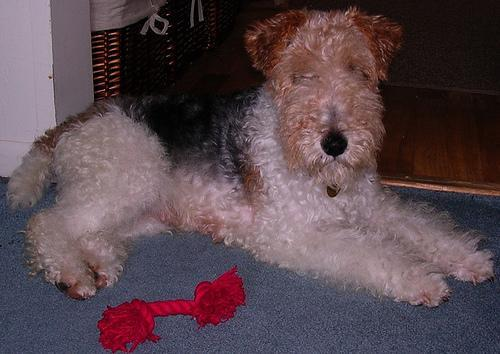wire-haired_fox_terrier: (6, 8, 498, 309)
